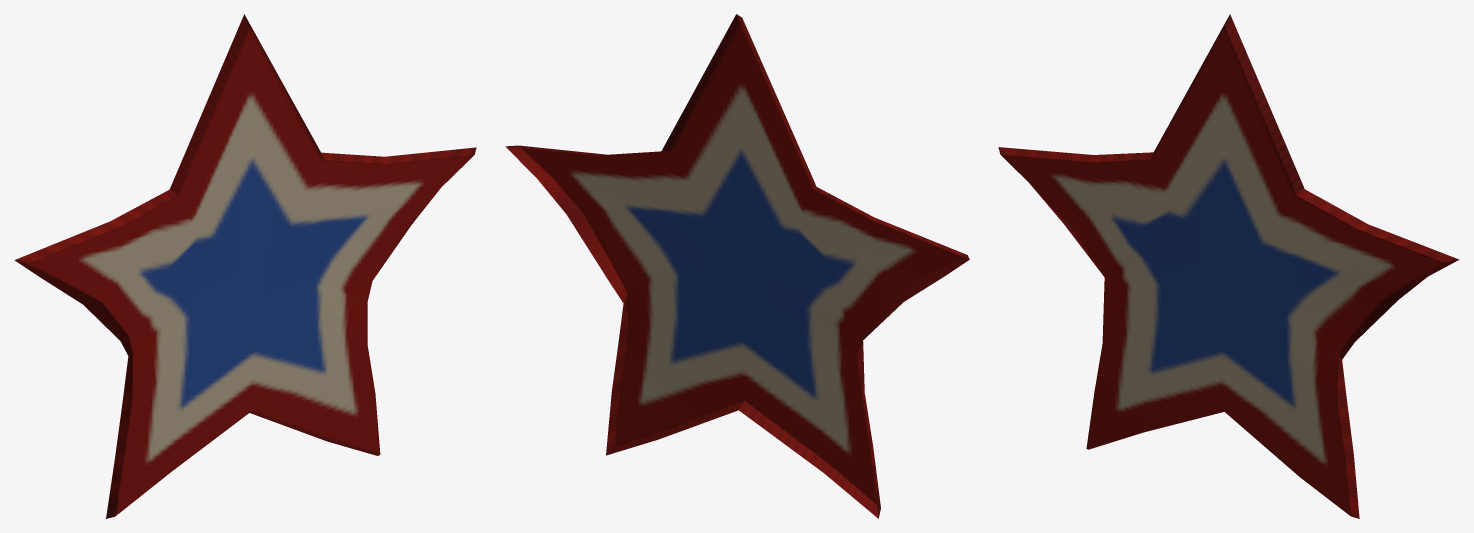
File: CardboardCutout_Star_RedWhiteBlue_Scaled.fbx
3 views of the same model, side by side, from view 1: azimuth 30°, elevation 25°; view 2: azimuth 150°, elevation 25°; view 3: azimuth 330°, elevation 25° (orthographic).
Parts seen in each view (by area): view 1: Star1; view 2: Star1; view 3: Star1.
Boxes of the visible parts, x1=… form: Star1: x1=14, y1=14, x2=476, y2=518; Star1: x1=505, y1=14, x2=969, y2=518; Star1: x1=998, y1=14, x2=1459, y2=518.
Bounding box in the file's own units: 126 × 124 × 4.18.
